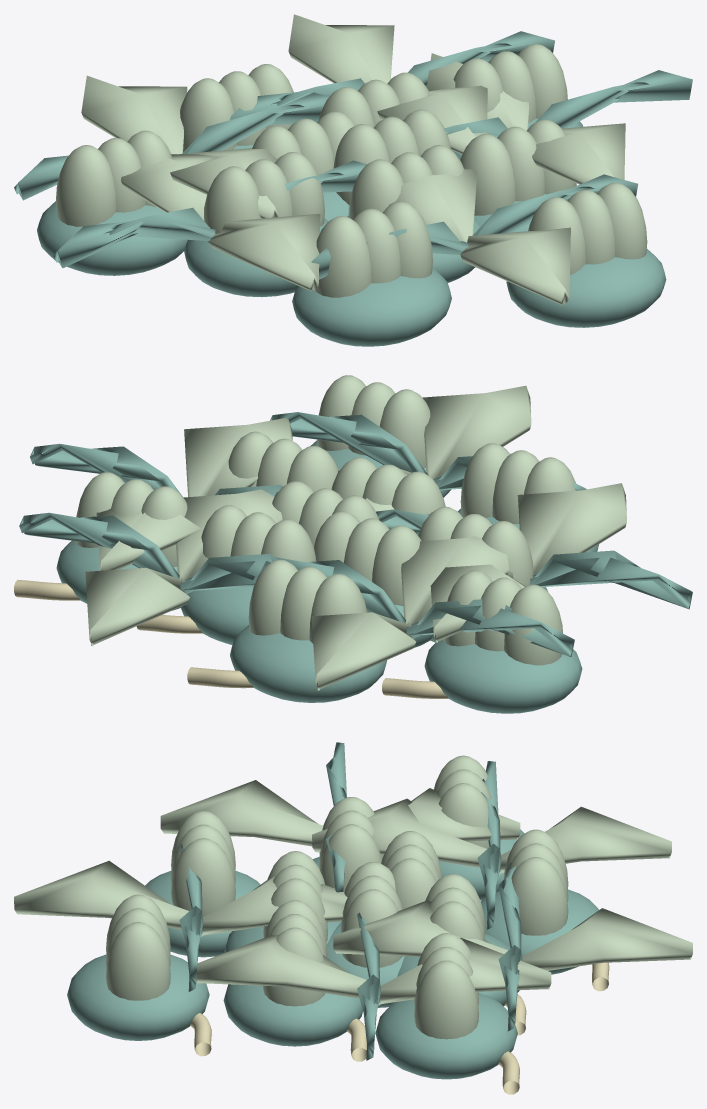
The model's file is bio_acid_mat_10_near.glb.
3 views of the same model, one above another, from view 1: azimuth 30°, elevation 25°; view 2: azimuth 150°, elevation 25°; view 3: azimuth 270°, elevation 25° (orthographic). The views are drawn at different scales.
Parts seen in each view (by area): view 1: Low buttress leaf.009, Low buttress leaf.013, Low buttress leaf.017, Microbial cushion.007, Reaction vesicle.021, Low buttress leaf.005, Microbial cushion.010, Reaction vesicle.027, Reaction vesicle.030, Reaction vesicle.015, Reaction vesicle.012, Low buttress leaf.001 (+15 smaller); view 2: Low buttress leaf.005, Low buttress leaf.013, Low buttress leaf.017, Microbial cushion.009, Low buttress leaf.001, Low buttress leaf.009, Reaction vesicle.018, Low buttress leaf.012, Microbial cushion.006, Reaction vesicle.021, Reaction vesicle.027, Reaction vesicle.003 (+18 smaller); view 3: Low buttress leaf.013, Low buttress leaf.001, Low buttress leaf.009, Low buttress leaf.005, Low buttress leaf.017, Microbial cushion.008, Microbial cushion.010, Reaction vesicle.030, Microbial cushion.005, Reaction vesicle.024, Reaction vesicle.018, Reaction vesicle.021 (+21 smaller).
Boxes of the visible parts, <box> form: Low buttress leaf.009: <box>388,162,570,305</box>; Low buttress leaf.013: <box>288,14,487,154</box>; Low buttress leaf.017: <box>121,154,320,291</box>; Microbial cushion.007: <box>292,267,451,346</box>; Reaction vesicle.021: <box>315,201,432,297</box>; Low buttress leaf.005: <box>81,75,279,218</box>; Microbial cushion.010: <box>506,249,666,327</box>; Reaction vesicle.027: <box>56,130,172,226</box>; Reaction vesicle.030: <box>528,182,647,274</box>; Reaction vesicle.015: <box>460,119,576,215</box>; Reaction vesicle.012: <box>204,152,324,243</box>; Low buttress leaf.001: <box>426,53,625,184</box>; Low buttress leaf.005: <box>311,536,508,690</box>; Low buttress leaf.013: <box>85,489,282,646</box>; Low buttress leaf.017: <box>430,483,626,642</box>; Microbial cushion.009: <box>424,639,582,713</box>; Low buttress leaf.001: <box>96,418,292,570</box>; Low buttress leaf.009: <box>338,385,531,511</box>; Reaction vesicle.018: <box>248,559,367,643</box>; Low buttress leaf.012: <box>19,512,278,593</box>; Microbial cushion.006: <box>230,625,386,702</box>; Reaction vesicle.021: <box>460,443,575,523</box>; Reaction vesicle.027: <box>444,570,562,665</box>; Reaction vesicle.003: <box>314,511,421,605</box>; Low buttress leaf.013: <box>333,900,692,970</box>; Low buttress leaf.001: <box>196,934,551,1005</box>; Low buttress leaf.009: <box>14,860,347,936</box>; Low buttress leaf.005: <box>312,798,671,874</box>; Low buttress leaf.017: <box>160,780,520,846</box>; Microbial cushion.008: <box>375,993,517,1079</box>; Microbial cushion.010: <box>67,954,209,1040</box>; Reaction vesicle.030: <box>106,894,170,1000</box>; Microbial cushion.005: <box>223,962,362,1046</box>; Reaction vesicle.024: <box>414,933,478,1039</box>; Reaction vesicle.018: <box>503,829,568,935</box>; Reaction vesicle.021: <box>171,811,235,916</box>.
Size of the model in its own units: 2.22 by 0.4 by 2.09.
